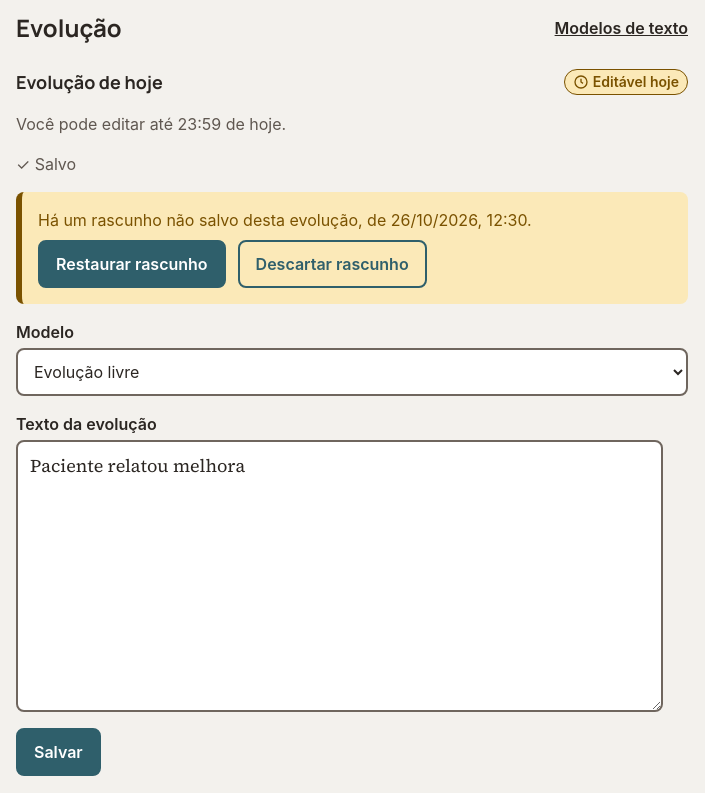
Scenario: Rascunho oferecido depois da sessão expirar (RAS-04) › com texto não salvo no servidor, oferece restaurar sem aplicar nem gravar sozinho
Expected: the text "Há um rascunho não salvo desta evolução" is shown, [38,210,391,230]
Expected: the text box labelled "Texto da evolução" holds "Paciente relatou melhora", [16,440,664,712]
Click the button "Restaurar rascunho" at (132, 264), box [38,240,226,288]
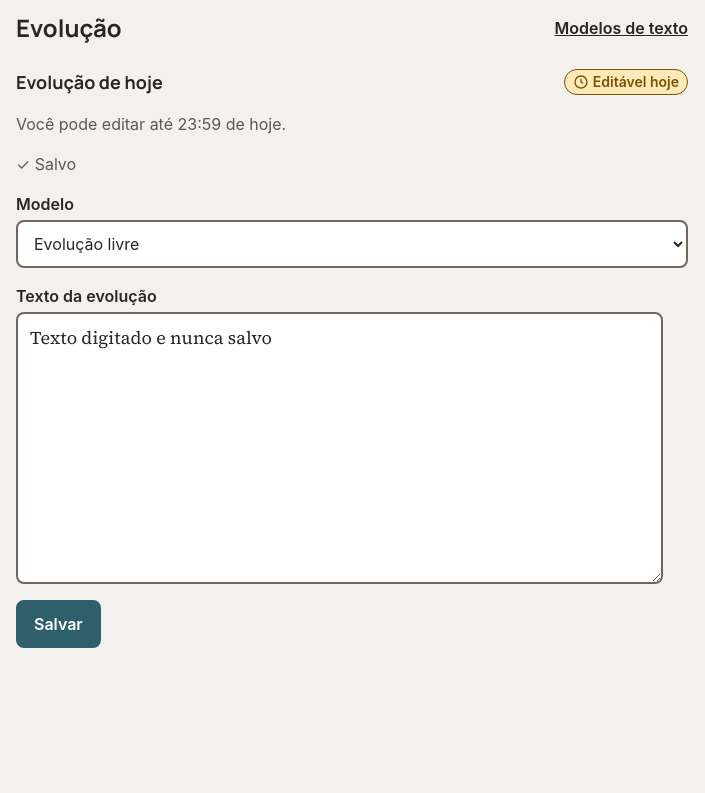
Now the text box labelled "Texto da evolução" holds "Texto digitado e nunca salvo", box [16,312,664,584]
Now the text "Há um rascunho não salvo" is gone
